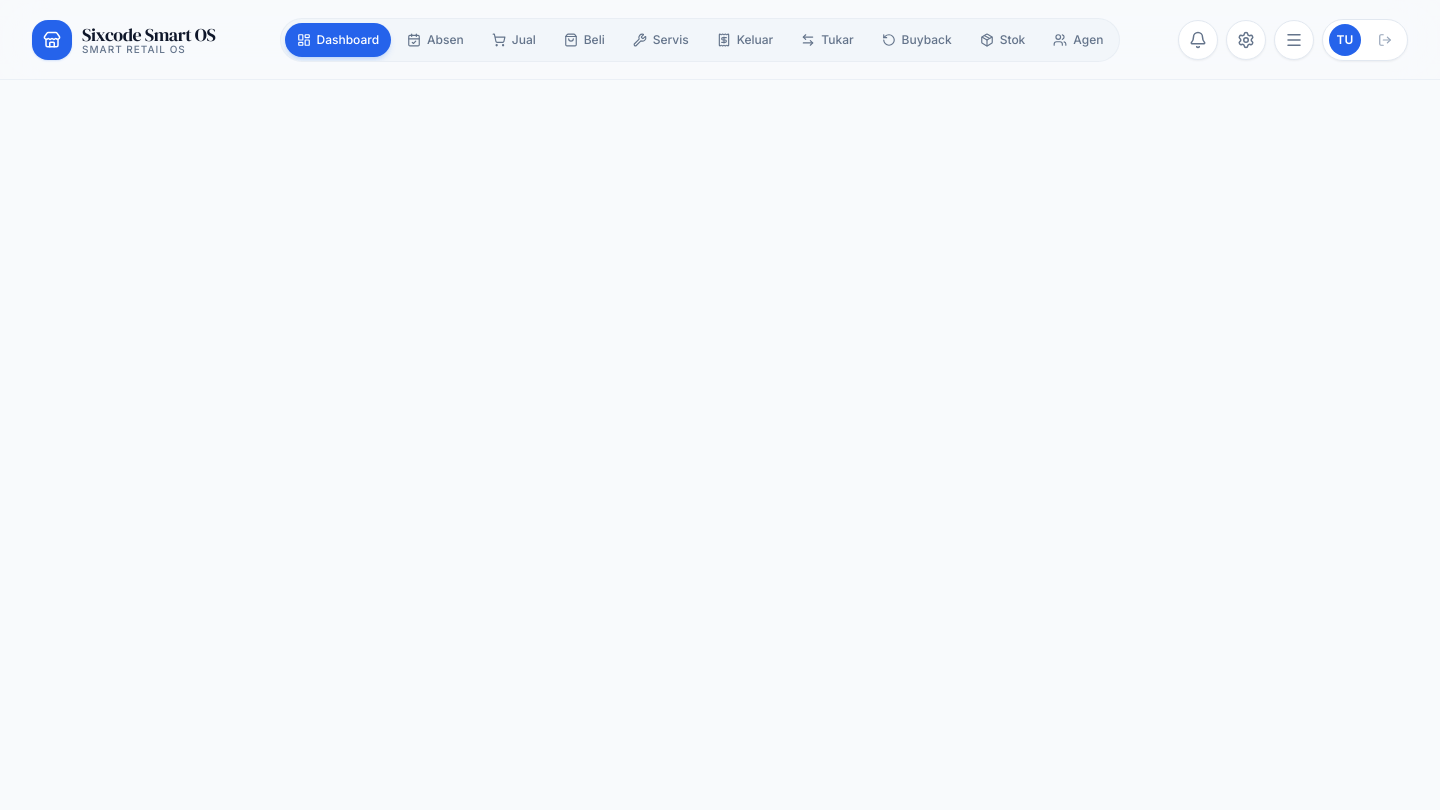
Test: Navbar — Operasi section (Requirements 4.1, 4.2) › still renders the Operasi section and its remaining links when the menu is opened
// Open the quick-access Sheet drawer that holds the grouped nav sections.
Click the button named "Menu cepat".
click(1294, 40)  # box [1274,20,1314,60]
(page scrolled)
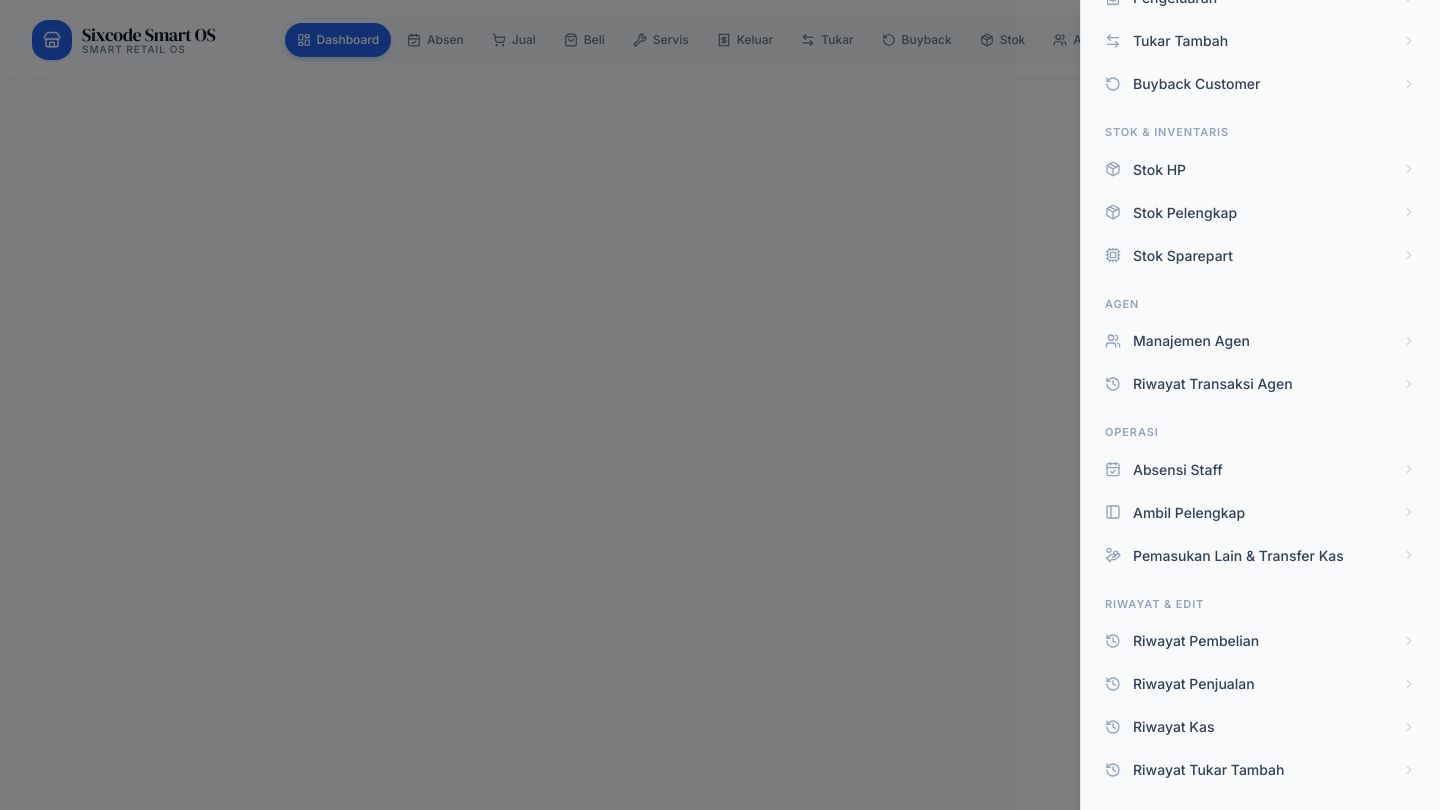
Check: the heading "Operasi" is shown, box [1105,425,1159,439]
Check: the link "Ambil Pelengkap" is shown, box [1105,504,1416,520]
Check: the link "Pemasukan Lain & Transfer Kas" is shown, box [1105,546,1416,564]
